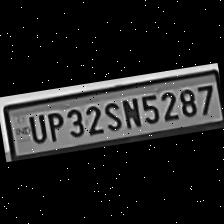2: (157, 86, 180, 122), (80, 100, 103, 135)
3: (61, 104, 85, 138)
5: (136, 90, 160, 124)
7: (193, 80, 217, 116)
8: (174, 84, 198, 119)
N: (119, 94, 141, 128)
P: (42, 108, 66, 142)
S: (100, 97, 123, 131)
U: (23, 110, 48, 144)
